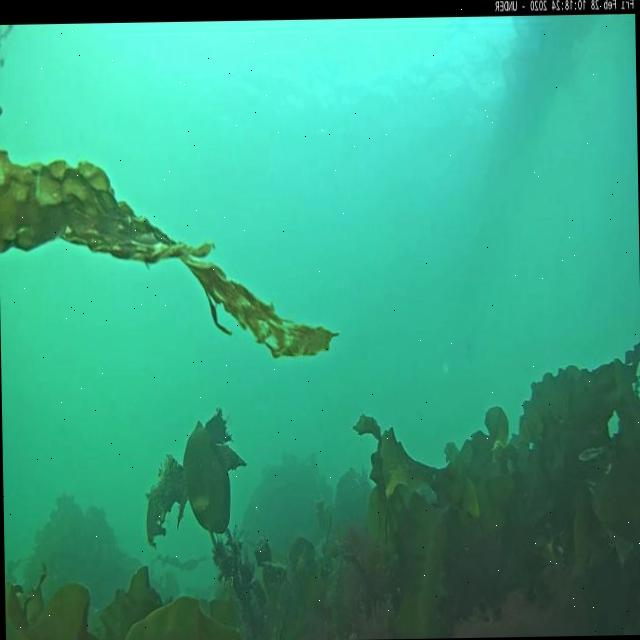fish: (576, 446, 602, 462)
